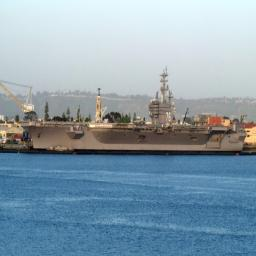Portanaves: (17, 62, 249, 157)
